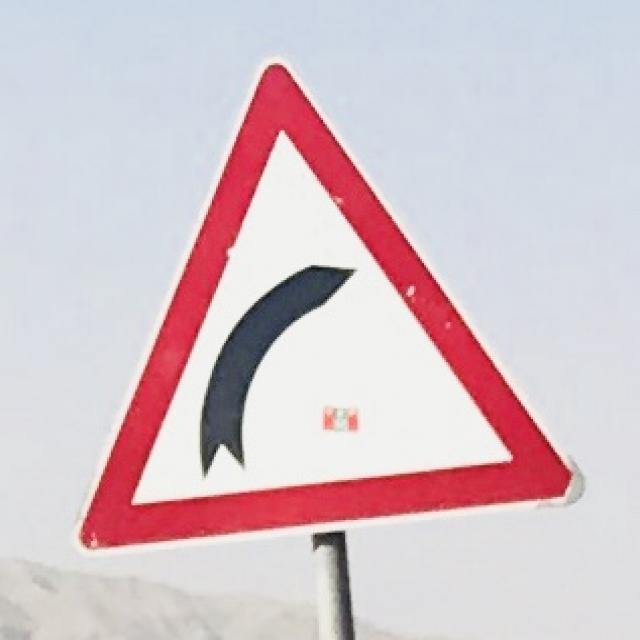right hand curve: (74, 54, 577, 554)
